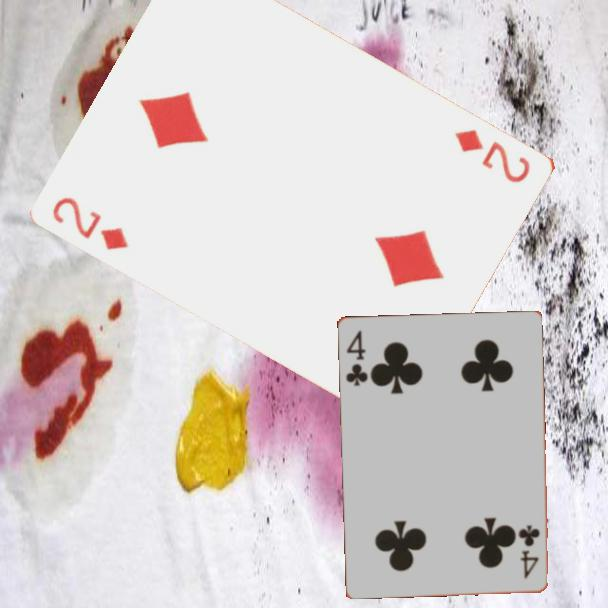c04: (342, 326, 370, 389), (516, 521, 542, 581)
d02: (452, 125, 534, 186), (49, 193, 132, 253)
